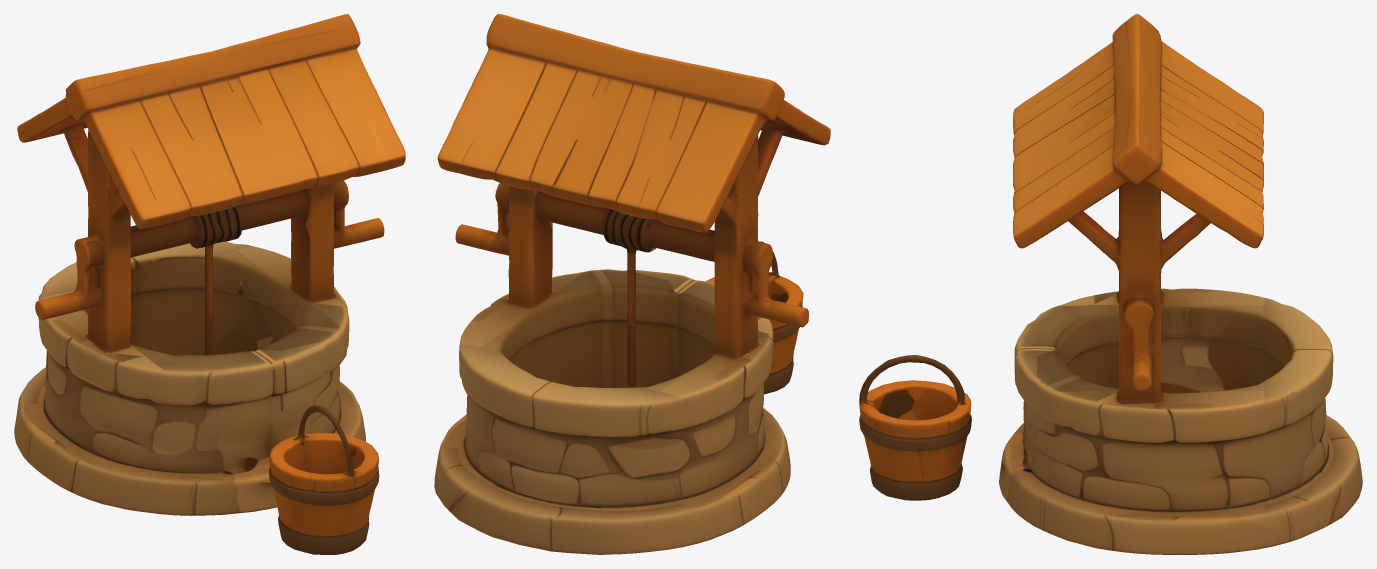
The model's file is base_basic_shaded.glb.
3 renders of one model, left to right at view 1: azimuth 30°, elevation 25°; view 2: azimuth 150°, elevation 25°; view 3: azimuth 270°, elevation 25°, orthographic. The views are drawn at different scales.
Visible parts, largest first — view 1: model; view 2: model; view 3: model.
Boxes of the visible parts, bbox=[...] form: model: bbox=[14, 14, 405, 554]; model: bbox=[434, 14, 830, 554]; model: bbox=[859, 14, 1362, 554].
Size of the model in its own units: 1.47 by 1.69 by 1.9.
Materials: 1 (1 with a texture image).
